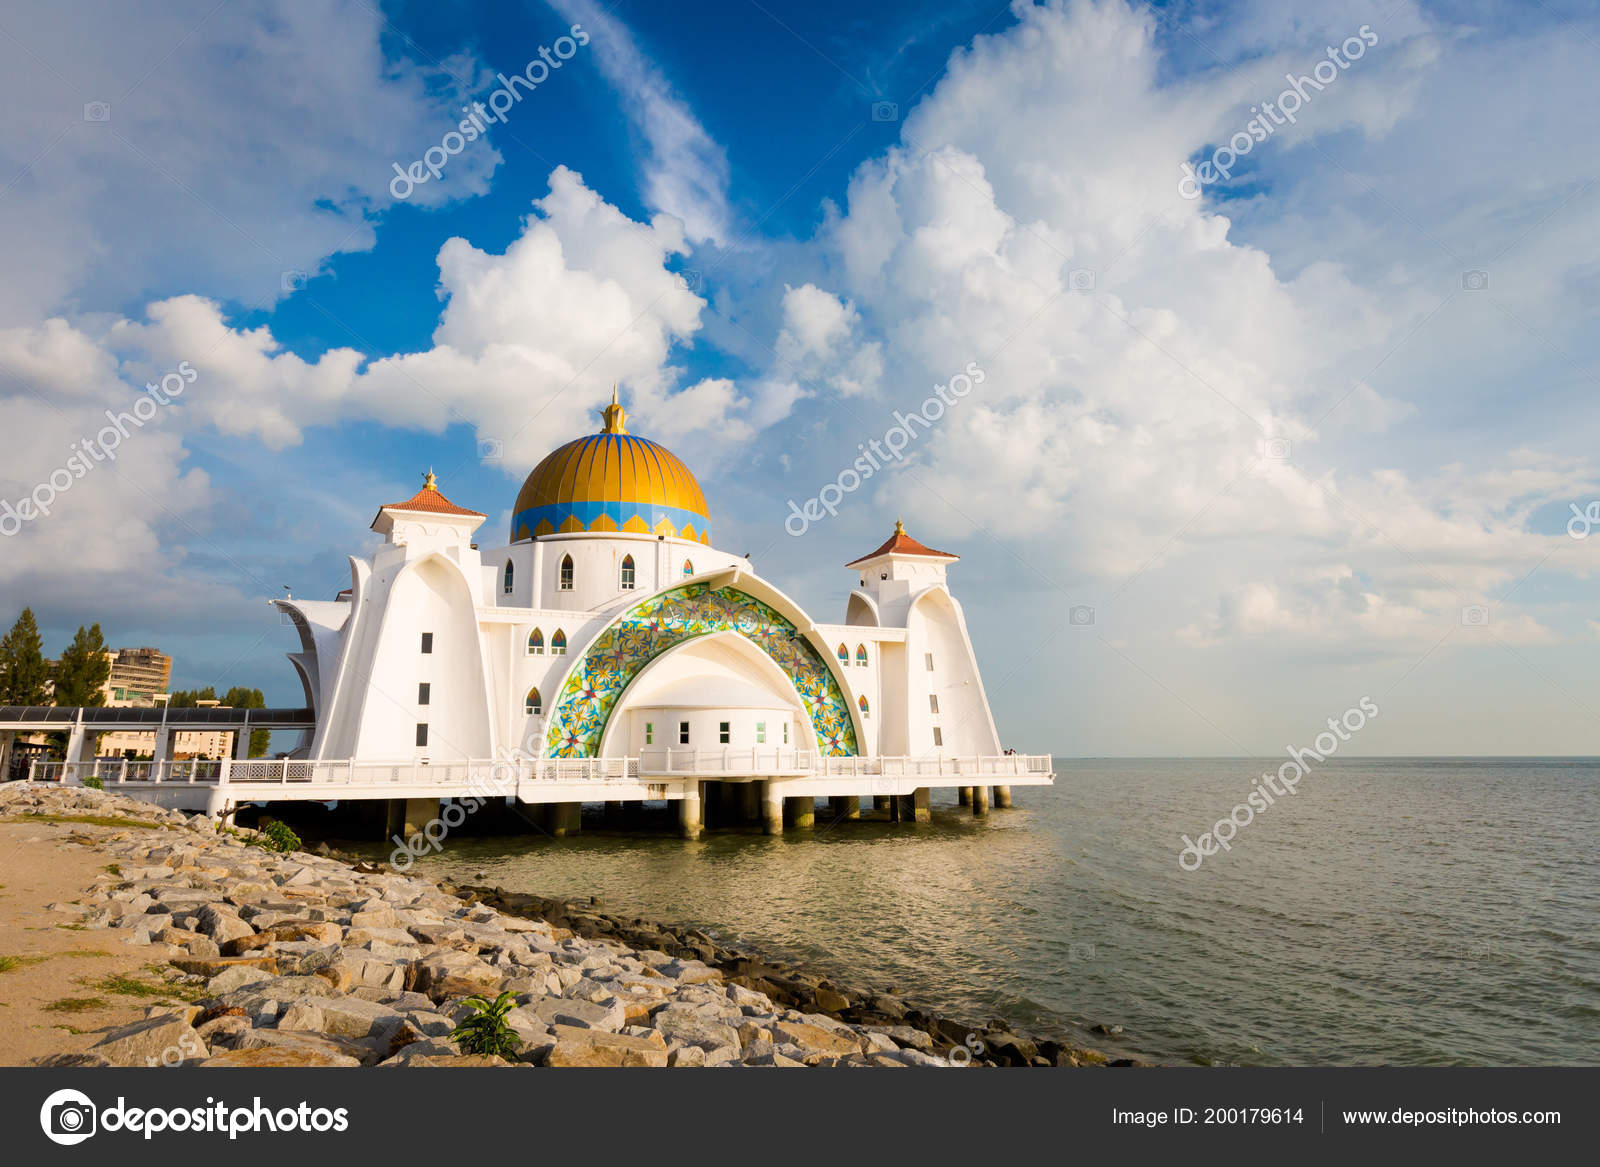Mosque: (165, 382, 1010, 808)
